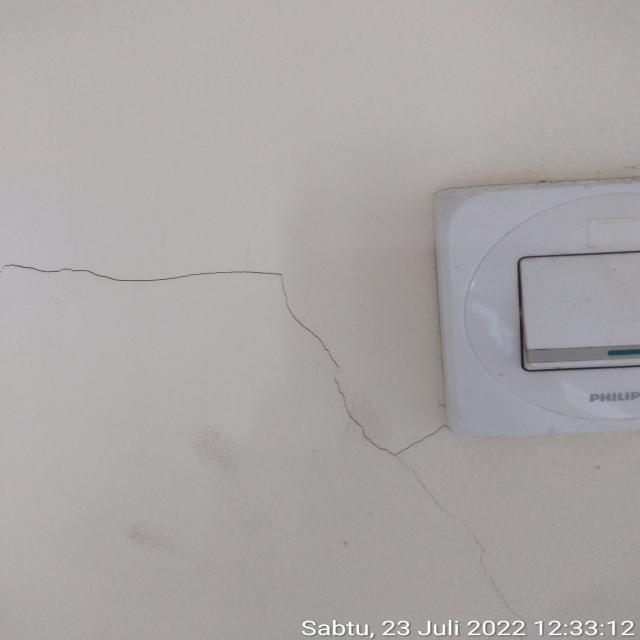Crack: (342, 398, 449, 486), (408, 490, 506, 570), (217, 261, 300, 317), (460, 578, 551, 628), (5, 242, 88, 286), (94, 262, 204, 292), (302, 327, 351, 394)
